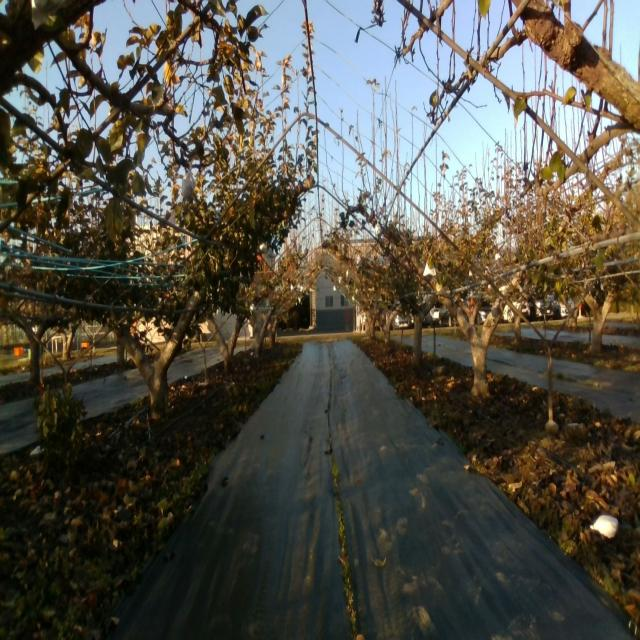pearbags: (181, 162, 196, 203)
